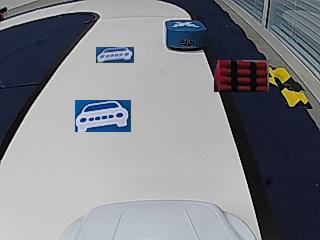prop: (166, 20, 207, 52)
